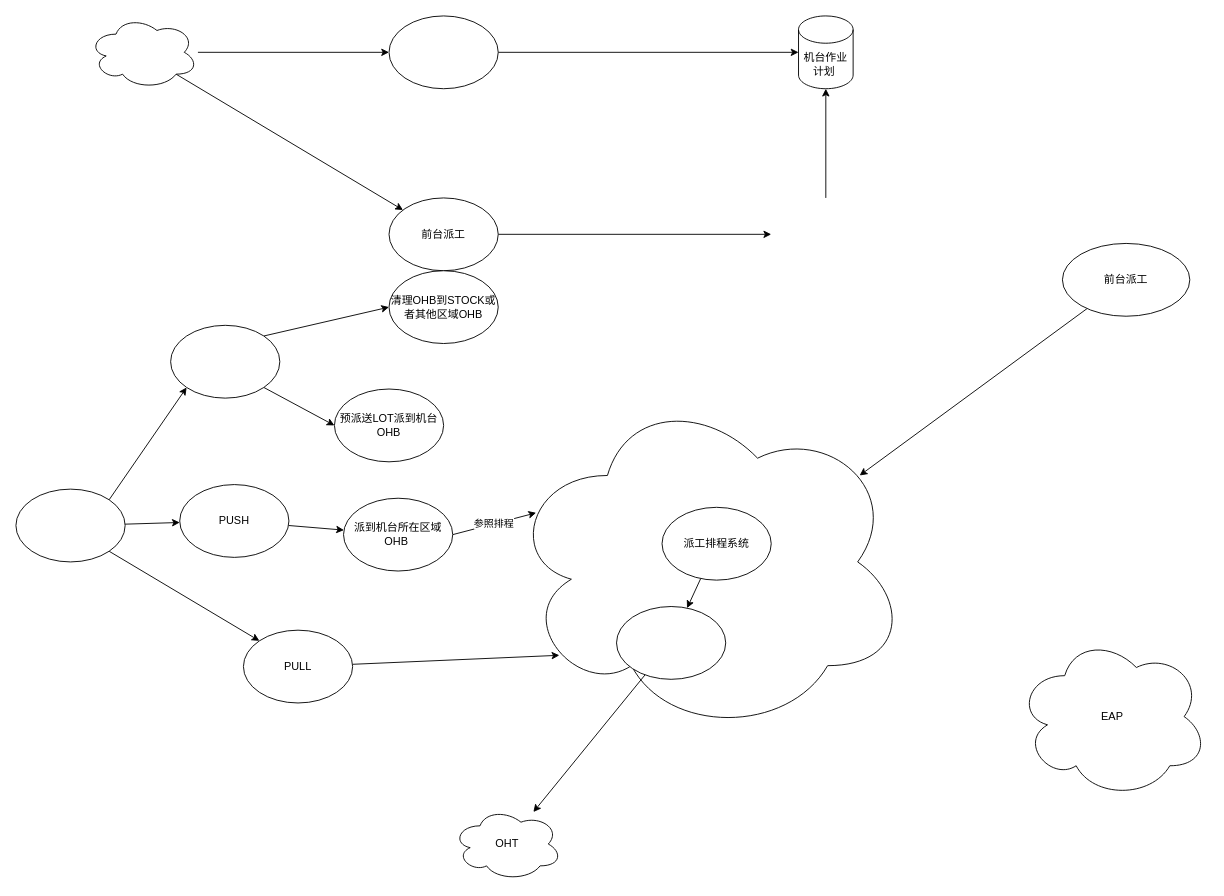
Image size: 1224x896. Some labels were removed from this diagram. Each missing label, with the centre of its shape:
OHB整理: [225,361]
psb,mcs模块: [671,642]
天车 派工: [70,525]
派工排程: [443,52]
派工系统: [143,52]
